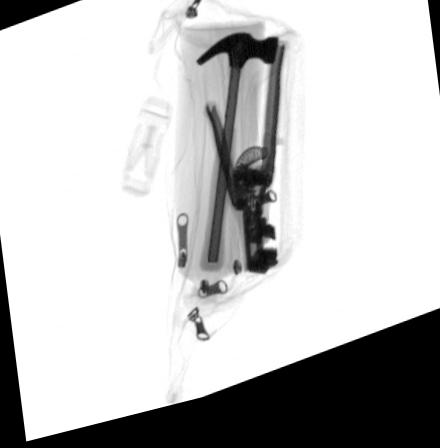Hammer: (195, 43, 277, 281)
Pliers: (202, 54, 287, 289)
